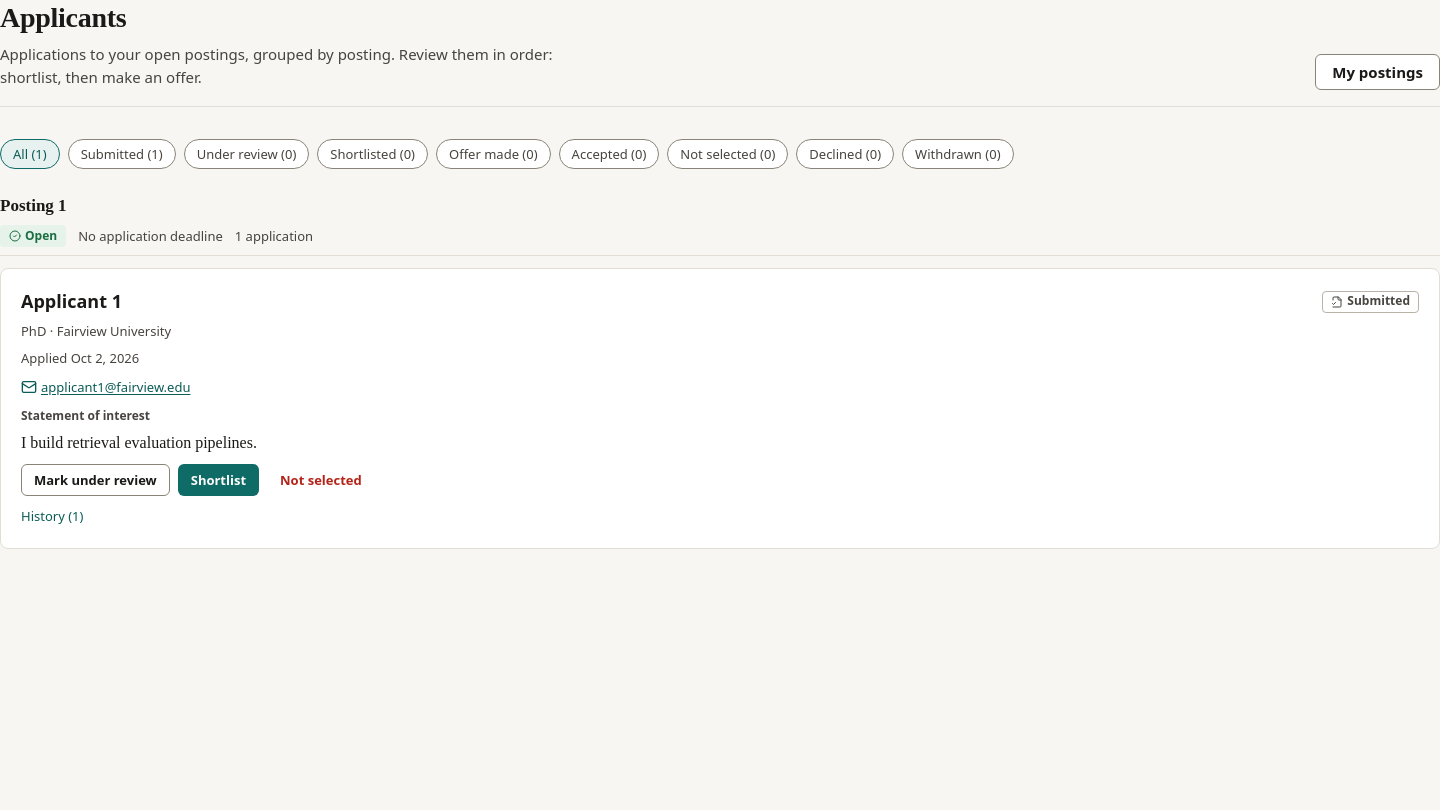
Test: decisions › a refused Not selected keeps the dialog open with the reason
The image size is (1440, 810).
Click the button "Not selected".
click(321, 480)  # box 267,464 -> 375,496
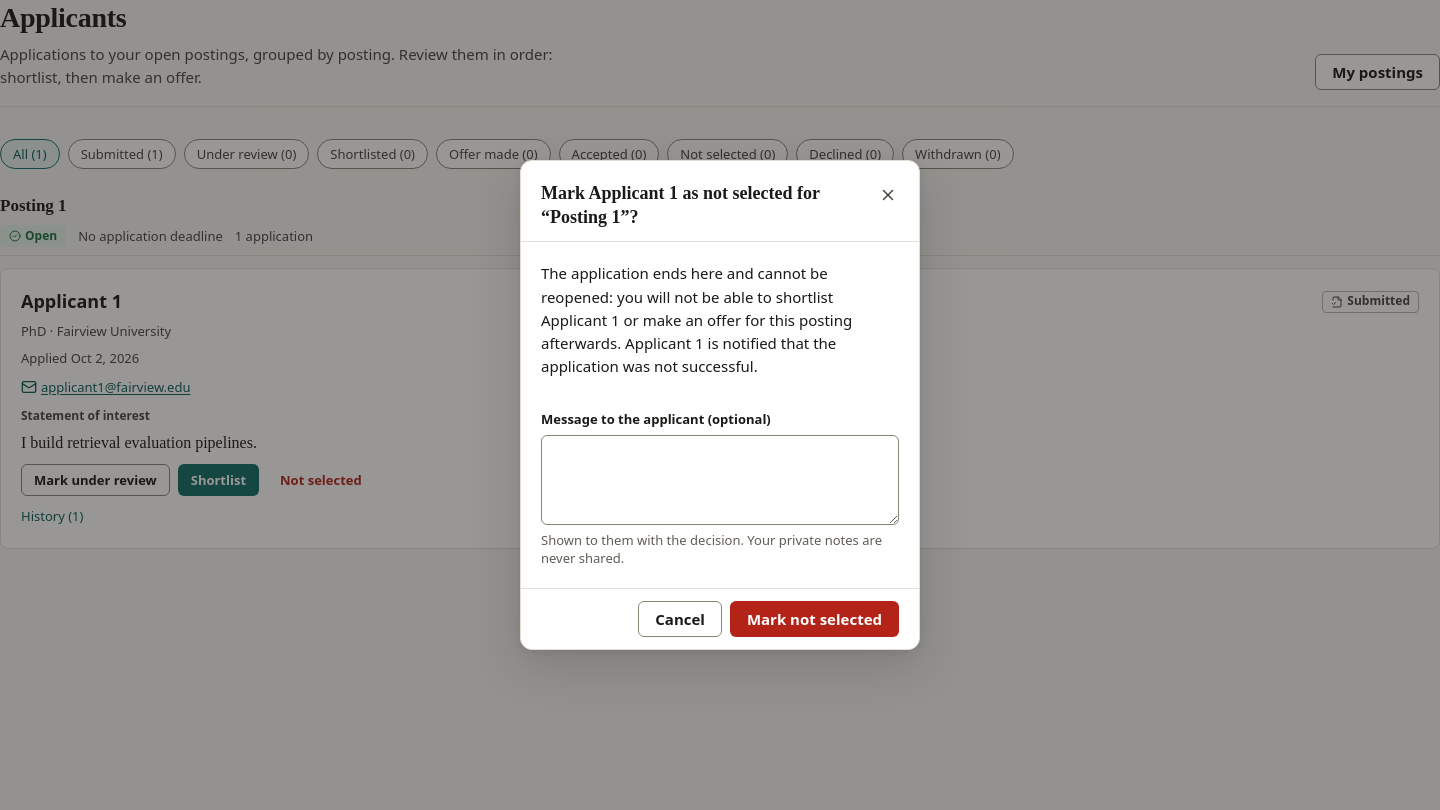
Click the button "Mark not selected".
click(814, 619)  # box 730,601 -> 899,637
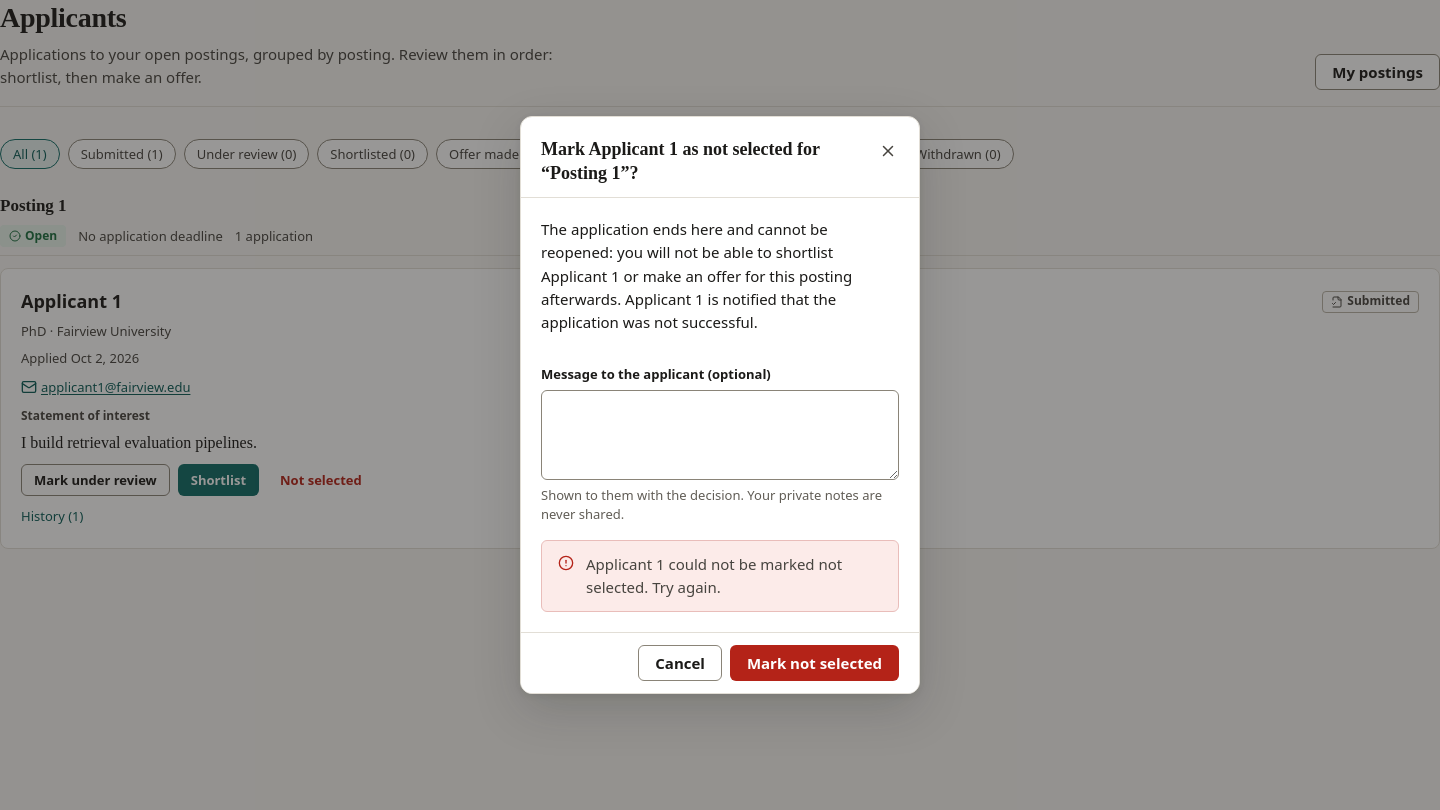
Expected: the element "Applicant 1" shows "Submitted", 1347,292 -> 1410,310
Now the message reads "Applicant 1 could not be marked not selected. Try again.", box 586,554 -> 842,597
